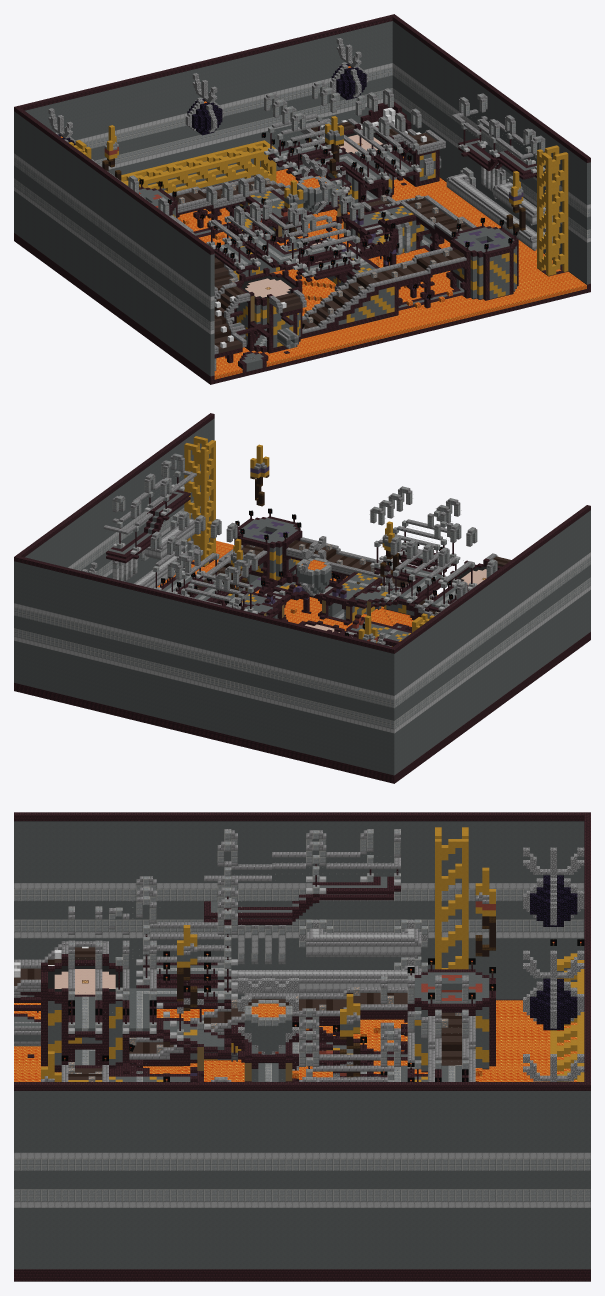
File: minecraft.obj
3 views of the same model, one above another, from view 1: azimuth 30°, elevation 25°; view 2: azimuth 150°, elevation 25°; view 3: azimuth 270°, elevation 25° (orthographic). The views are drawn at different scales.
Size of the model in its own units: 95 by 32 by 85.
